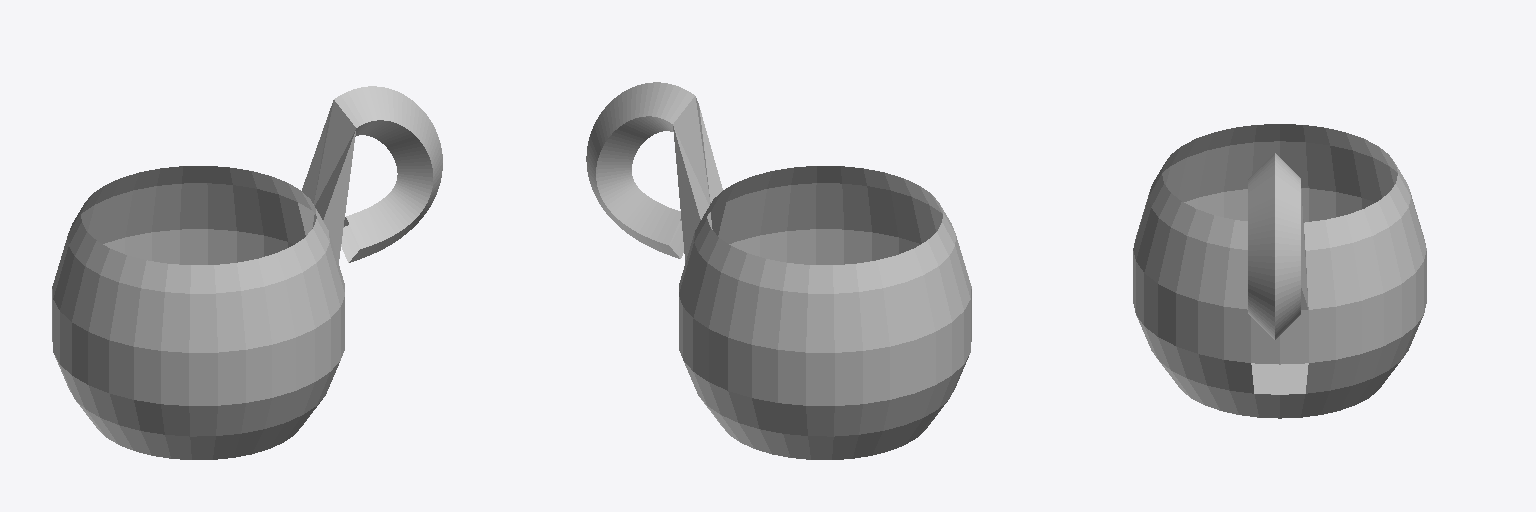
The model's file is cup2.obj.
3 renders of one model, left to right at view 1: azimuth 30°, elevation 25°; view 2: azimuth 150°, elevation 25°; view 3: azimuth 270°, elevation 25°, orthographic.
Bounding box in the file's own units: 3.24 × 2.45 × 2.24.